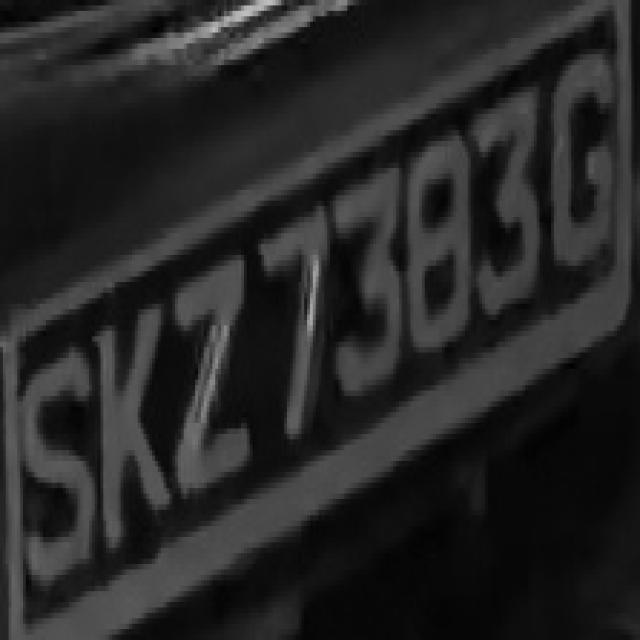3: (318, 168, 411, 407), (465, 97, 539, 330)
7: (238, 195, 333, 450)
8: (388, 125, 482, 369)
G: (542, 43, 623, 282)
K: (86, 298, 178, 554)
S: (17, 342, 92, 596)
Z: (158, 260, 261, 532)
